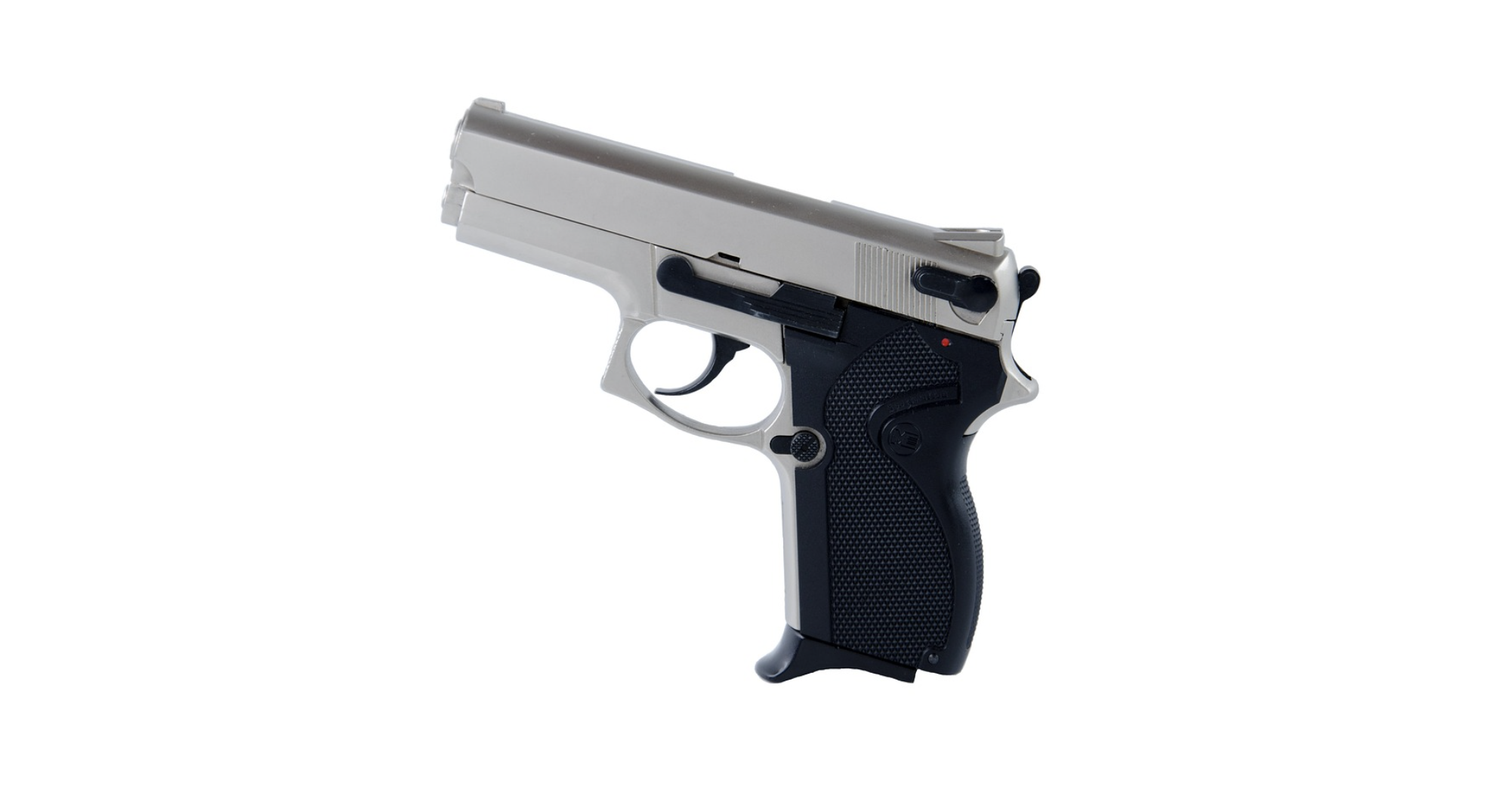gun_033.png: (418, 82, 1093, 692)
